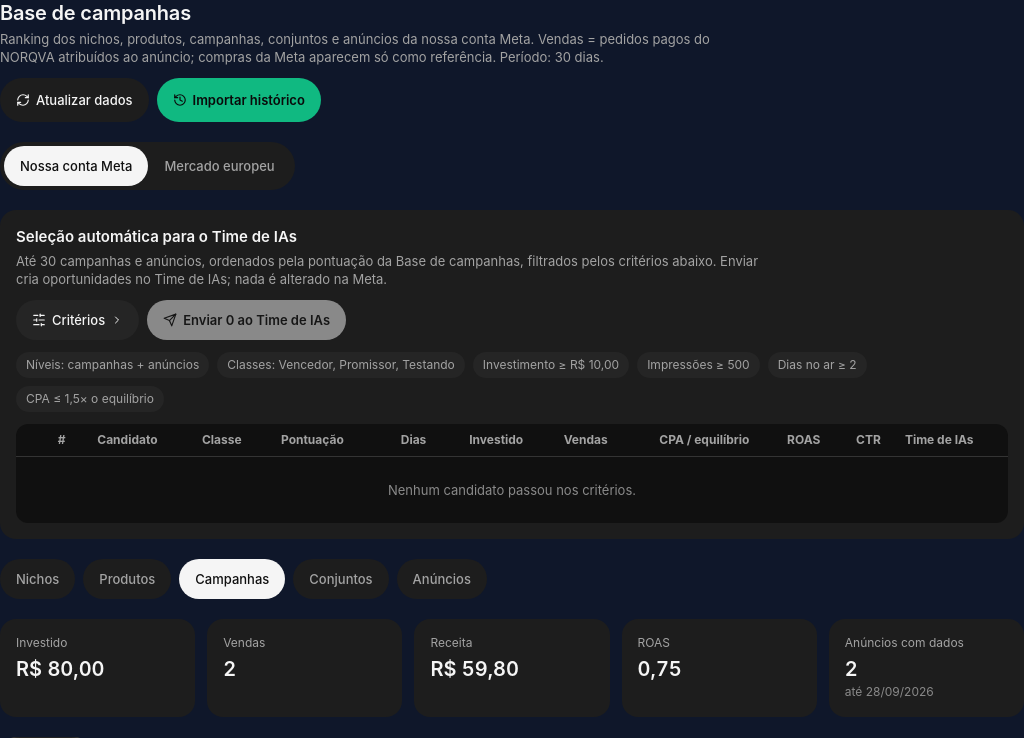
Test: NORQVA-0017 — Base de campanhas › switches level and starts the history import (admin)
Click the tab "Nichos".
click(38, 579)  # box [0,559,75,599]
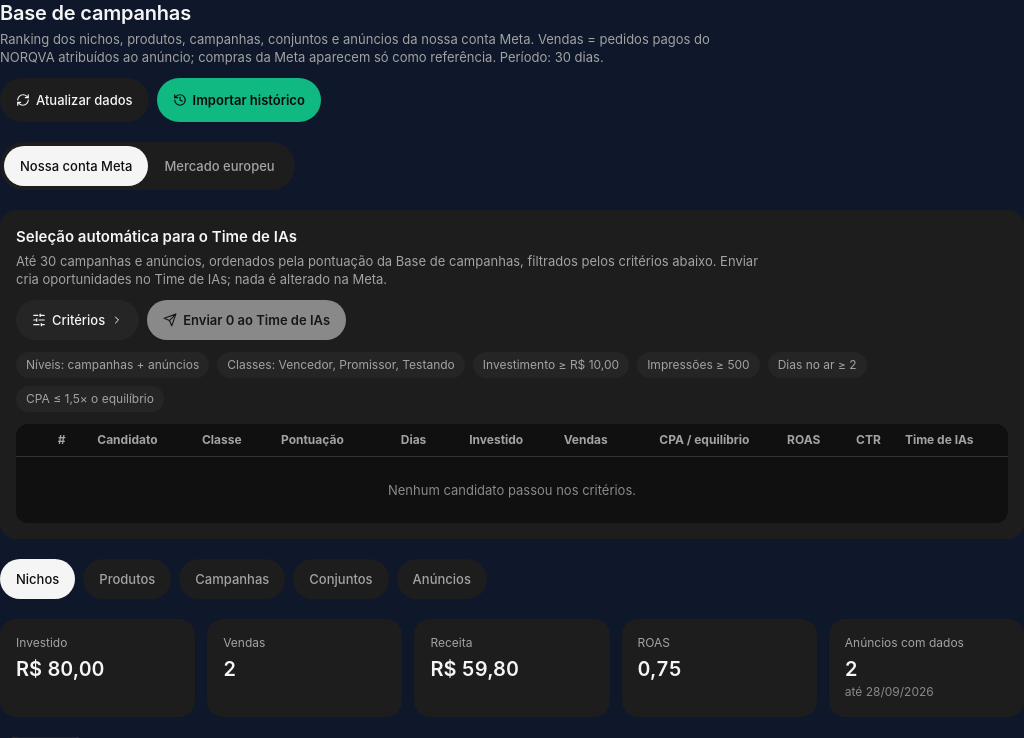
Click the button "Importar histórico".
click(239, 100)  # box [157,78,321,122]
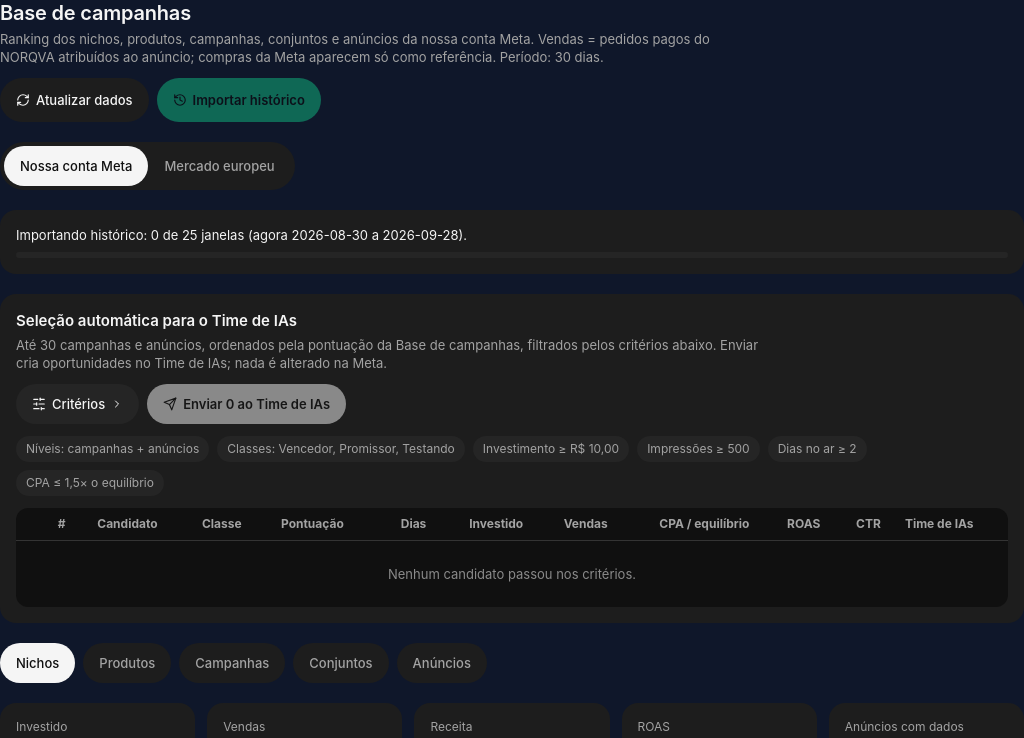
Expected: the message shows "0 de 25 janelas", [0,210,1023,274]
